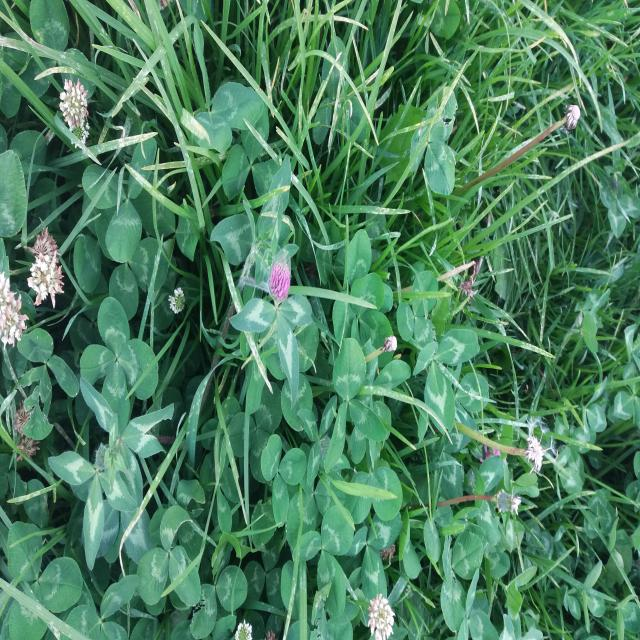Four Leaf Clover: (79, 298, 157, 433)
